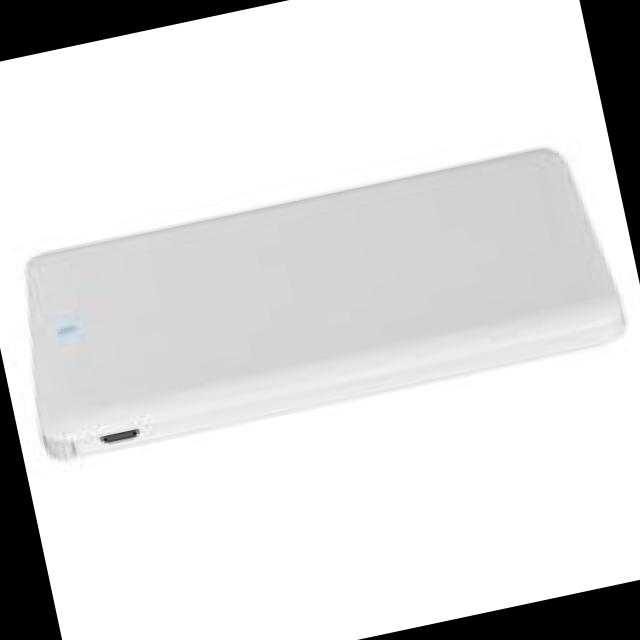power_bank: (0, 132, 635, 469)
